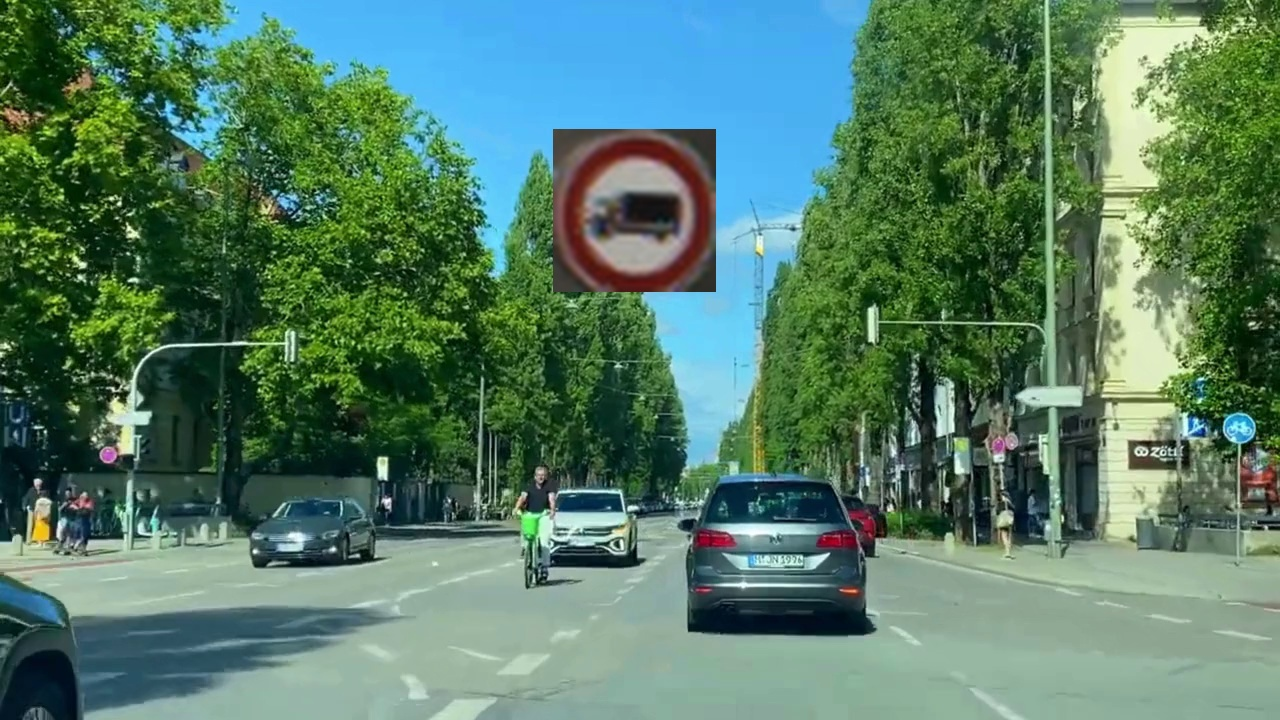Veh >3.5t prohib: (553, 129, 716, 292)
